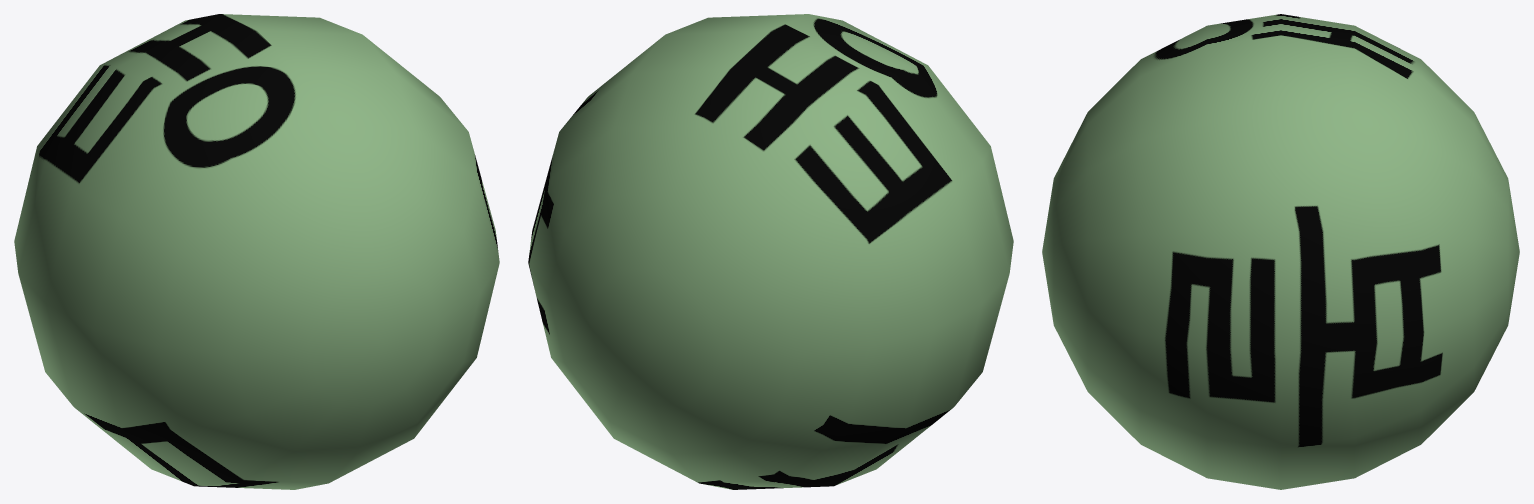
Rendered from sheeptangball.dae.
3 views of the same model, side by side, from view 1: azimuth 30°, elevation 25°; view 2: azimuth 150°, elevation 25°; view 3: azimuth 270°, elevation 25° (orthographic). The views are drawn at different scales.
Visible parts, largest first — view 1: Sphere; view 2: Sphere; view 3: Sphere.
Boxes of the visible parts, box(x1,y1,x2,y2) form: Sphere: box(14, 14, 499, 489); Sphere: box(528, 14, 1013, 489); Sphere: box(1042, 14, 1519, 489).
Bounding box in the file's own units: 2 × 2 × 2.
